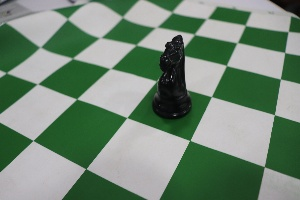black_horse: (145, 21, 201, 126)
